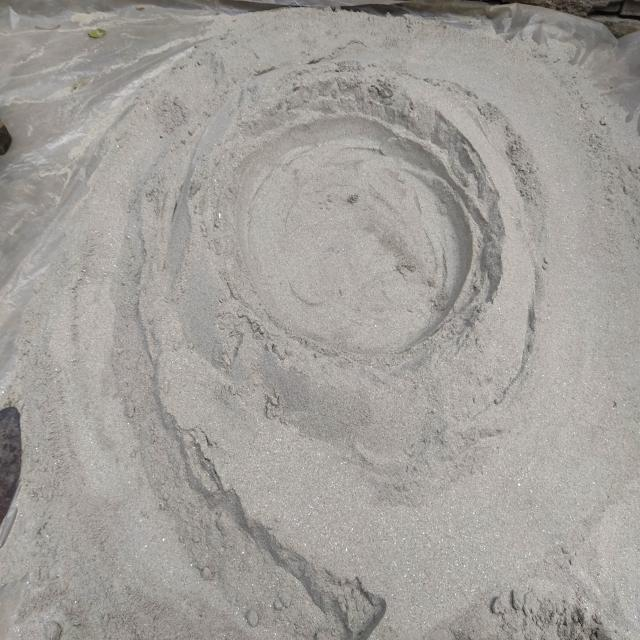C40: (238, 118, 472, 355)
